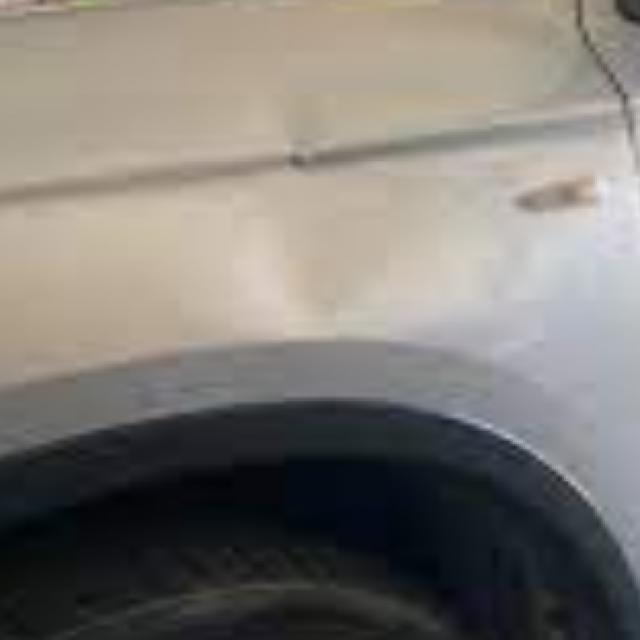dents: (247, 115, 507, 351)
